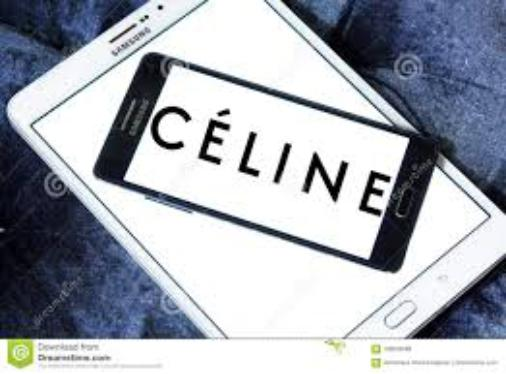CELINE: (140, 89, 397, 224)
